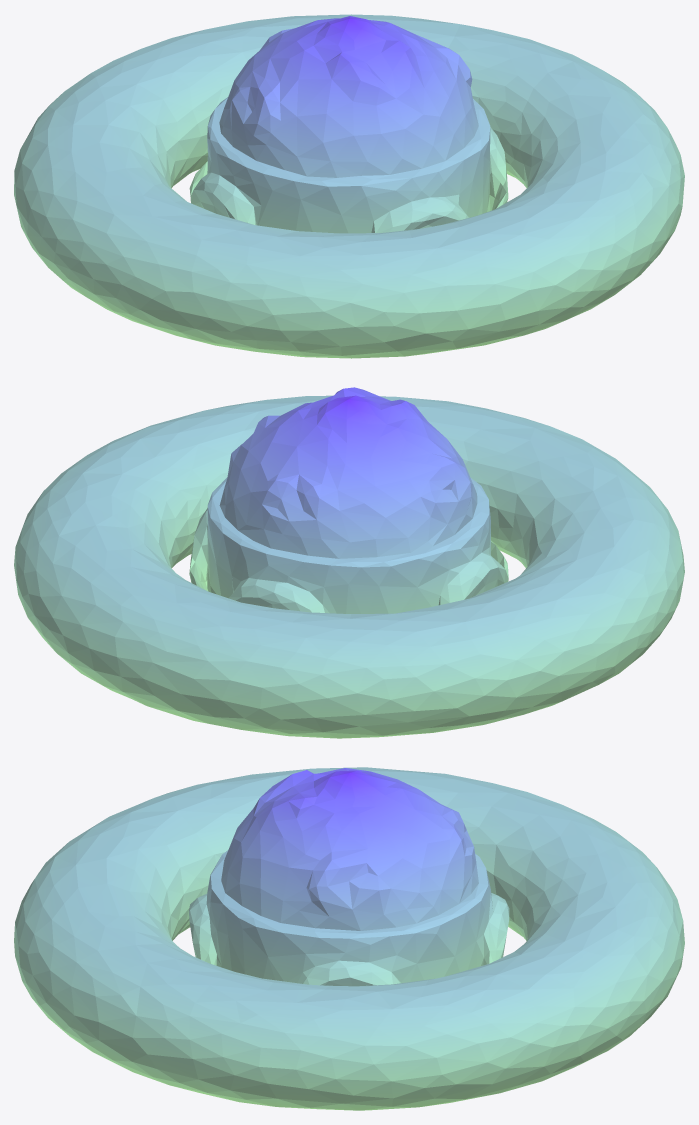
Rendered from 117_cyb_laser_gradient_fish_scales_2874_2026_10_03_523d38.glb.
The picture shows the model from 3 angles, top to bottom: view 1: azimuth 30°, elevation 25°; view 2: azimuth 150°, elevation 25°; view 3: azimuth 270°, elevation 25°; orthographic projection.
Visible parts, largest first — view 1: geometry_0; view 2: geometry_0; view 3: geometry_0.
Part boxes in pixels (left/top/right/bottom): geometry_0: left=14, top=14, right=684, bottom=358; geometry_0: left=14, top=387, right=684, bottom=738; geometry_0: left=14, top=767, right=684, bottom=1110.
Bounding box in the file's own units: 1 × 0.4316 × 1.
